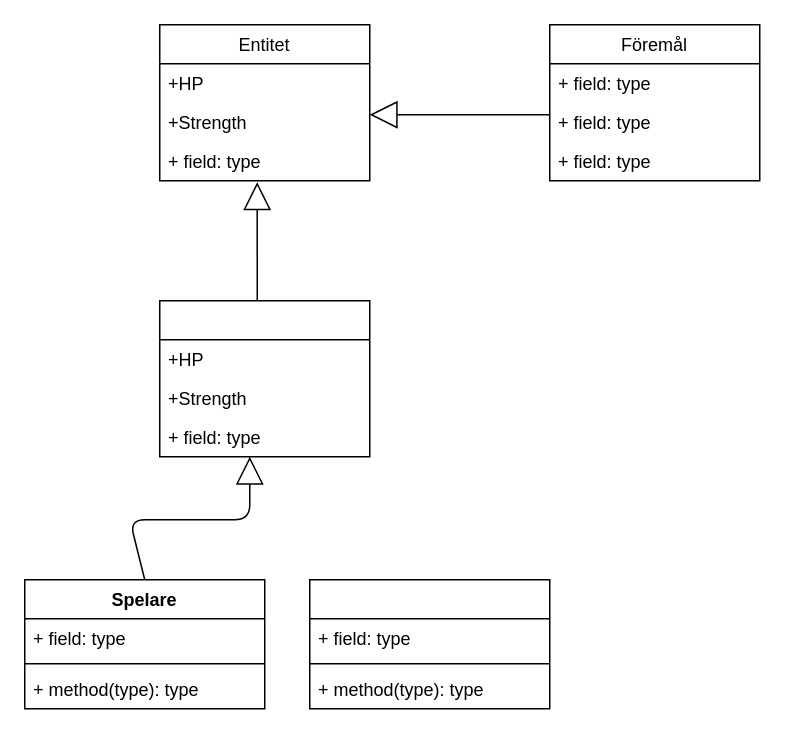
Some shapes in this 785 by 734 pixel diagram are drawn without their labels. Each missing label, with the box of its shape:
Fiende: (308, 578, 550, 709)
Varelse: (158, 299, 370, 457)
